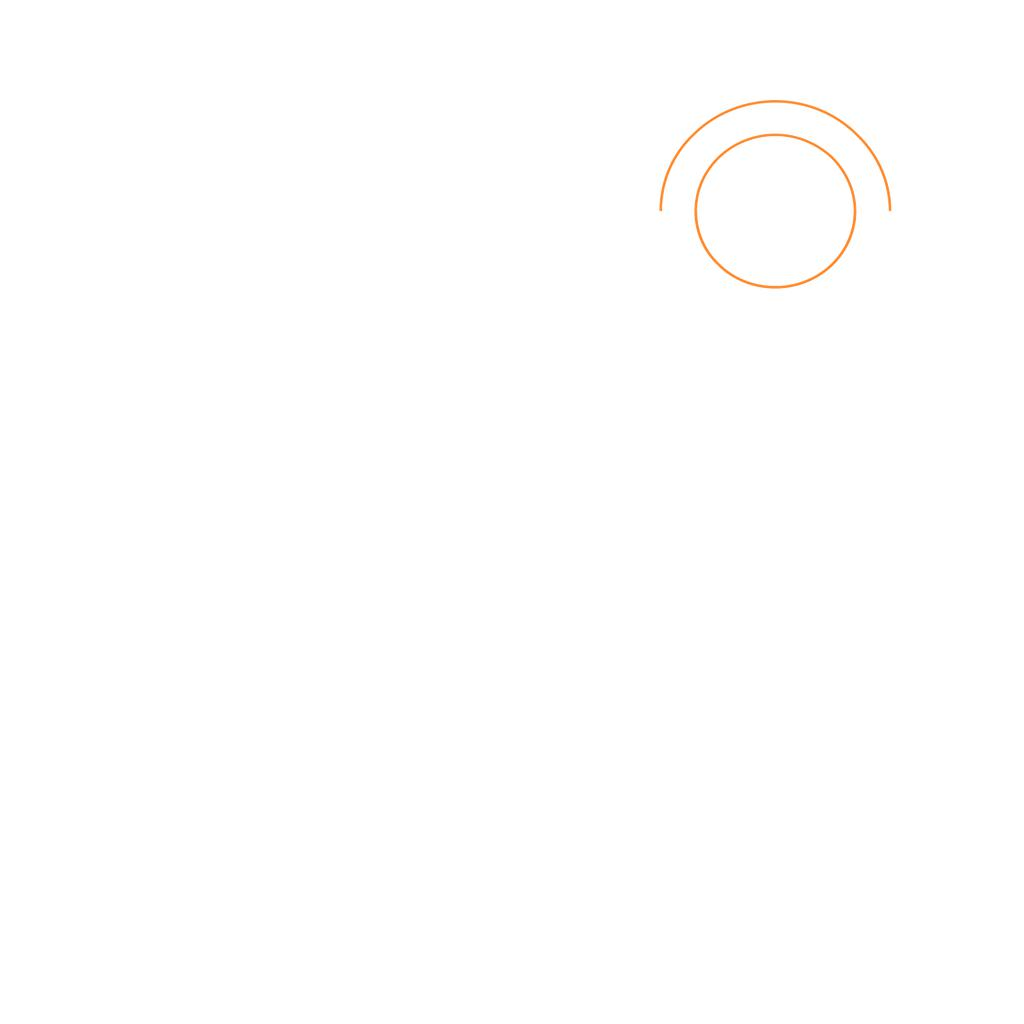Scheinwerfer_fuer_Alarmbeleuchtung: (637, 89, 901, 314)
